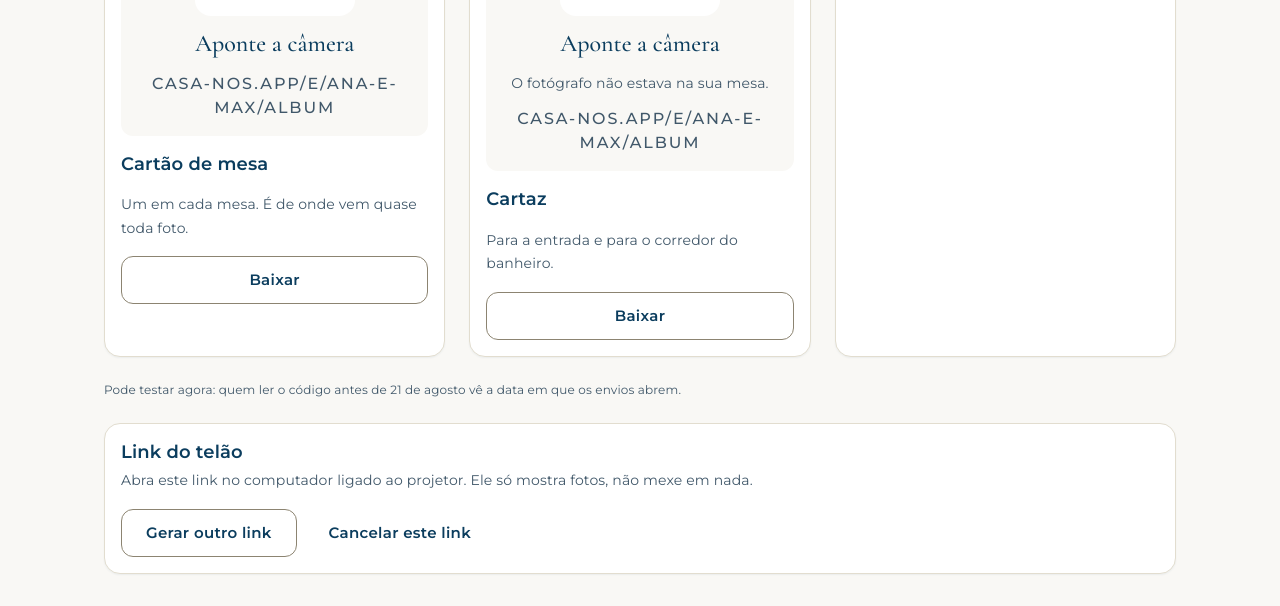
Painel — o código para imprimir › cancelar pergunta, e a pergunta diz a consequência
(page scrolled)
Click the button "Cancelar este link".
click(400, 533)  # box [305,509,495,557]
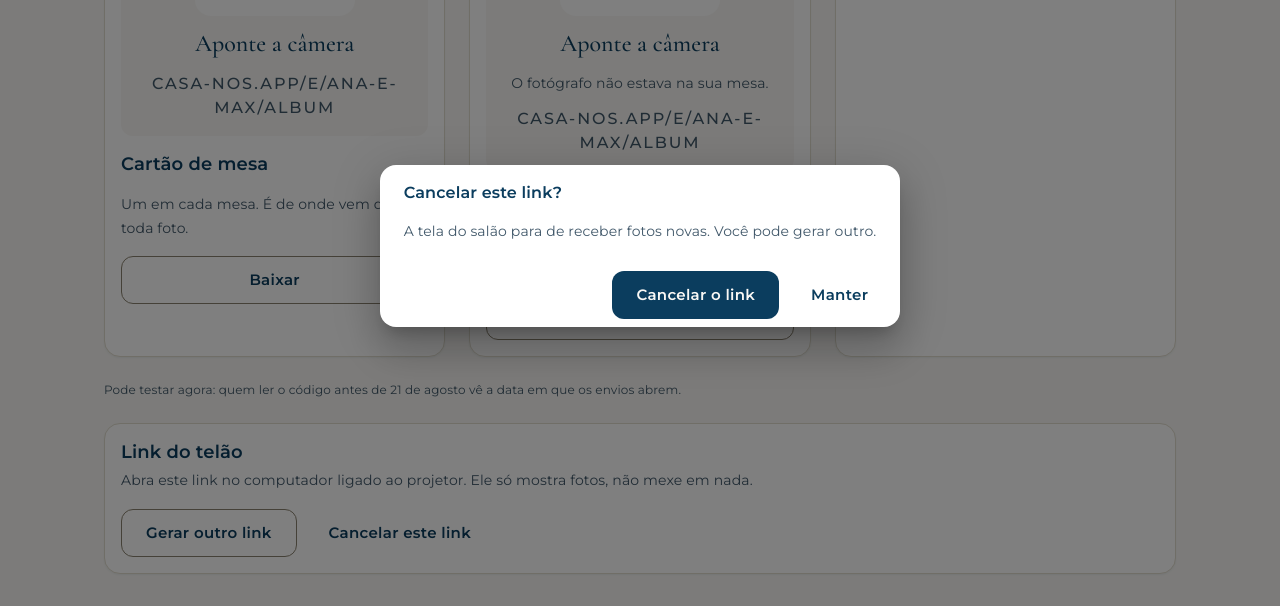
Now the heading "Cancelar este link?" is shown, box [404,182,562,202]
Now the text "A tela do salão para de receber fotos novas. Você pode gerar outro." is shown, box [404,220,876,244]
